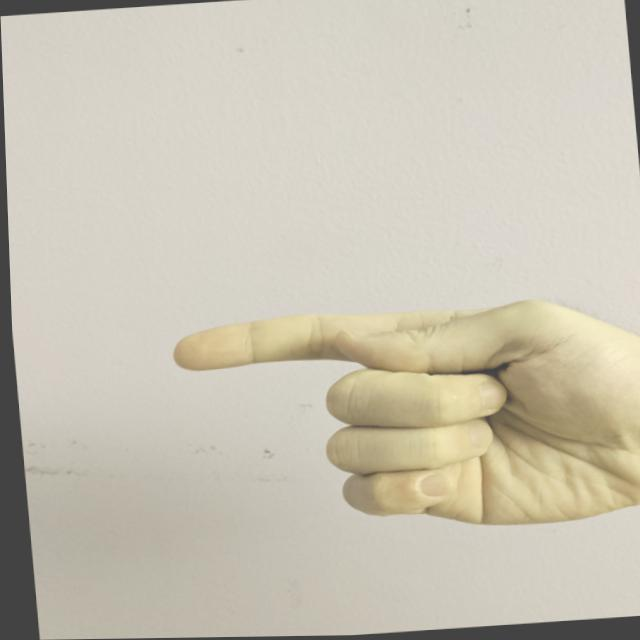G: (155, 282, 639, 556)
